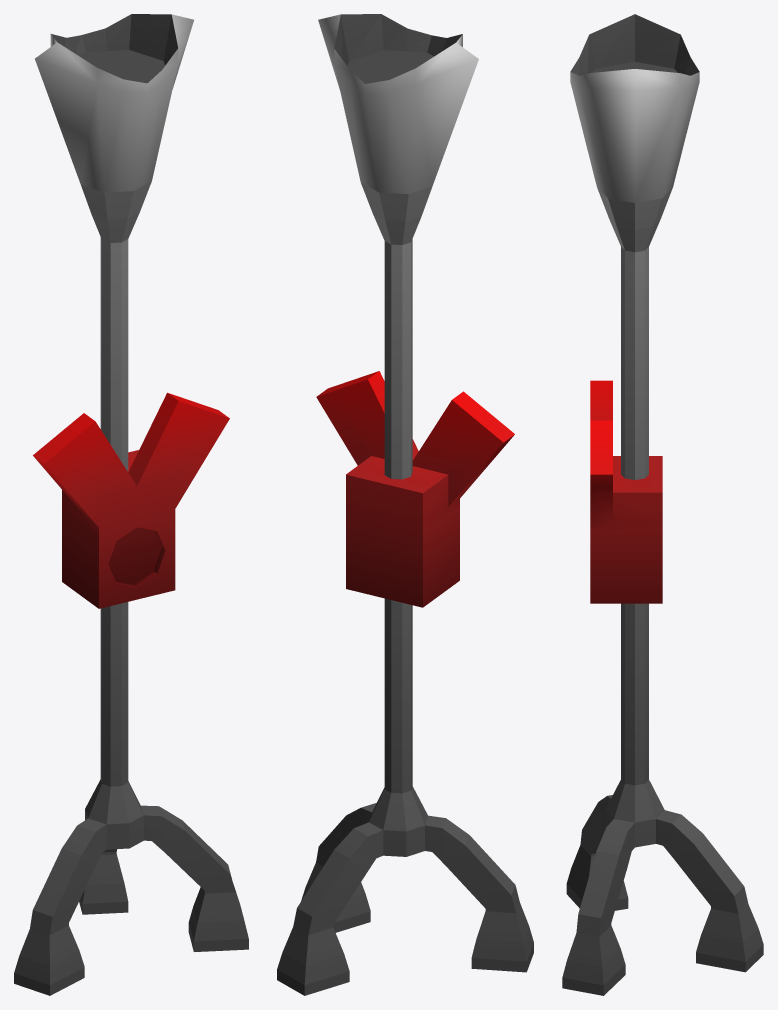
Rendered from BasicTorchlight.FBX.
The picture shows the model from 3 angles, left to right: view 1: azimuth 30°, elevation 25°; view 2: azimuth 150°, elevation 25°; view 3: azimuth 270°, elevation 25°; orthographic projection. The views are drawn at different scales.
Parts seen in each view (by area): view 1: BasicTorchlight, Box021; view 2: BasicTorchlight, Box021; view 3: BasicTorchlight, Box021.
Boxes of the visible parts, box(x1,y1,x2,y2) form: BasicTorchlight: box(14, 14, 248, 995); Box021: box(33, 392, 229, 608); BasicTorchlight: box(277, 14, 533, 995); Box021: box(316, 371, 514, 607); BasicTorchlight: box(562, 14, 763, 995); Box021: box(590, 380, 662, 603).
Size of the model in its own units: 39.74 by 153 by 31.11.
